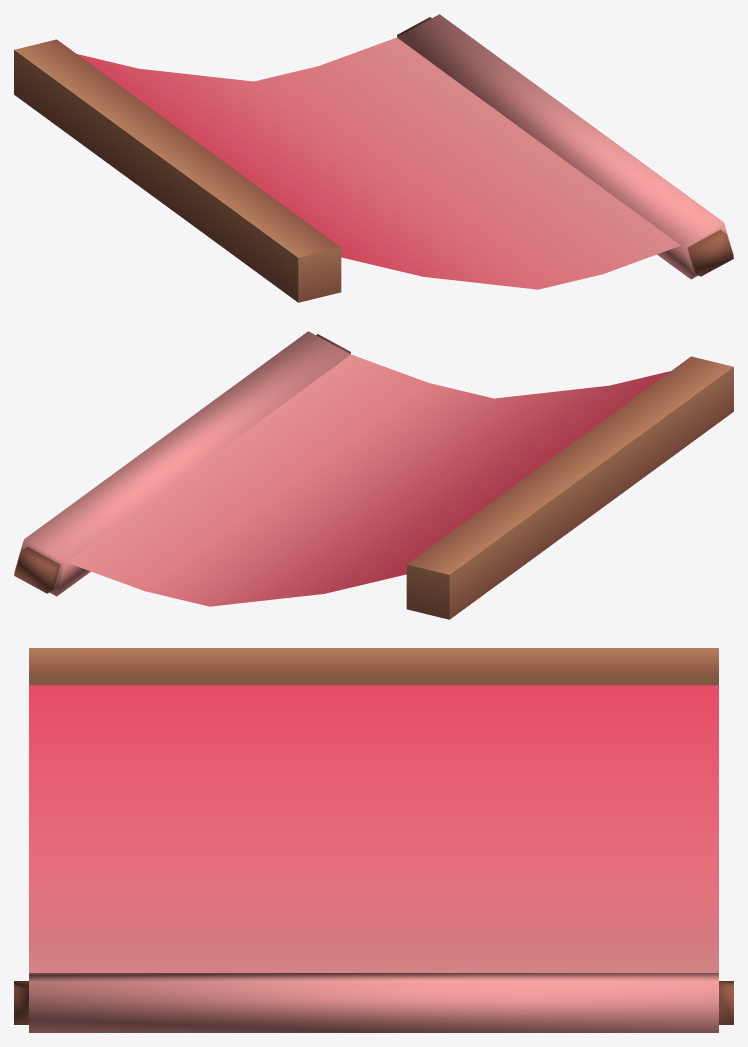
The model's file is Parasol03.fbx.
3 views of the same model, one above another, from view 1: azimuth 30°, elevation 25°; view 2: azimuth 150°, elevation 25°; view 3: azimuth 270°, elevation 25° (orthographic). The views are drawn at different scales.
Parts seen in each view (by area): view 1: Parasol03; view 2: Parasol03; view 3: Parasol03.
Part boxes in pixels (x1,y1,x2,y2): Parasol03: (14,14,733,302); Parasol03: (14,331,733,619); Parasol03: (14,648,733,1032).
Bounding box in the file's own units: 0.8901 × 0.2294 × 1.05.
Materials: 1 (1 with a texture image).
